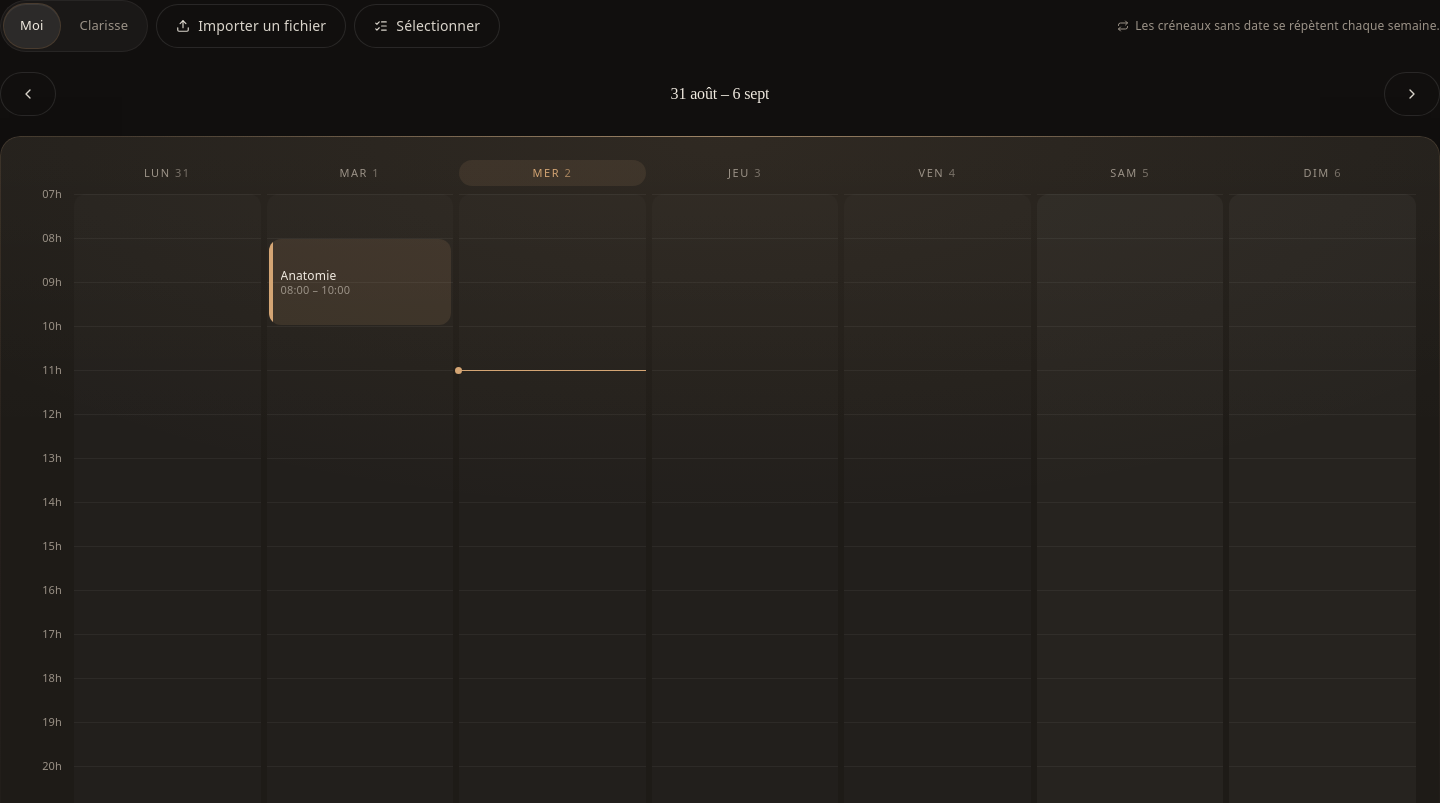
Emploi du temps — une semaine vide n’est pas un emploi du temps vide › dit « rien cette semaine » plutôt que « ta semaine est encore vide »
The image size is (1440, 803).
Click the button named "Semaine suivante" at x=1412, y=94, box [1384,72,1439,116]
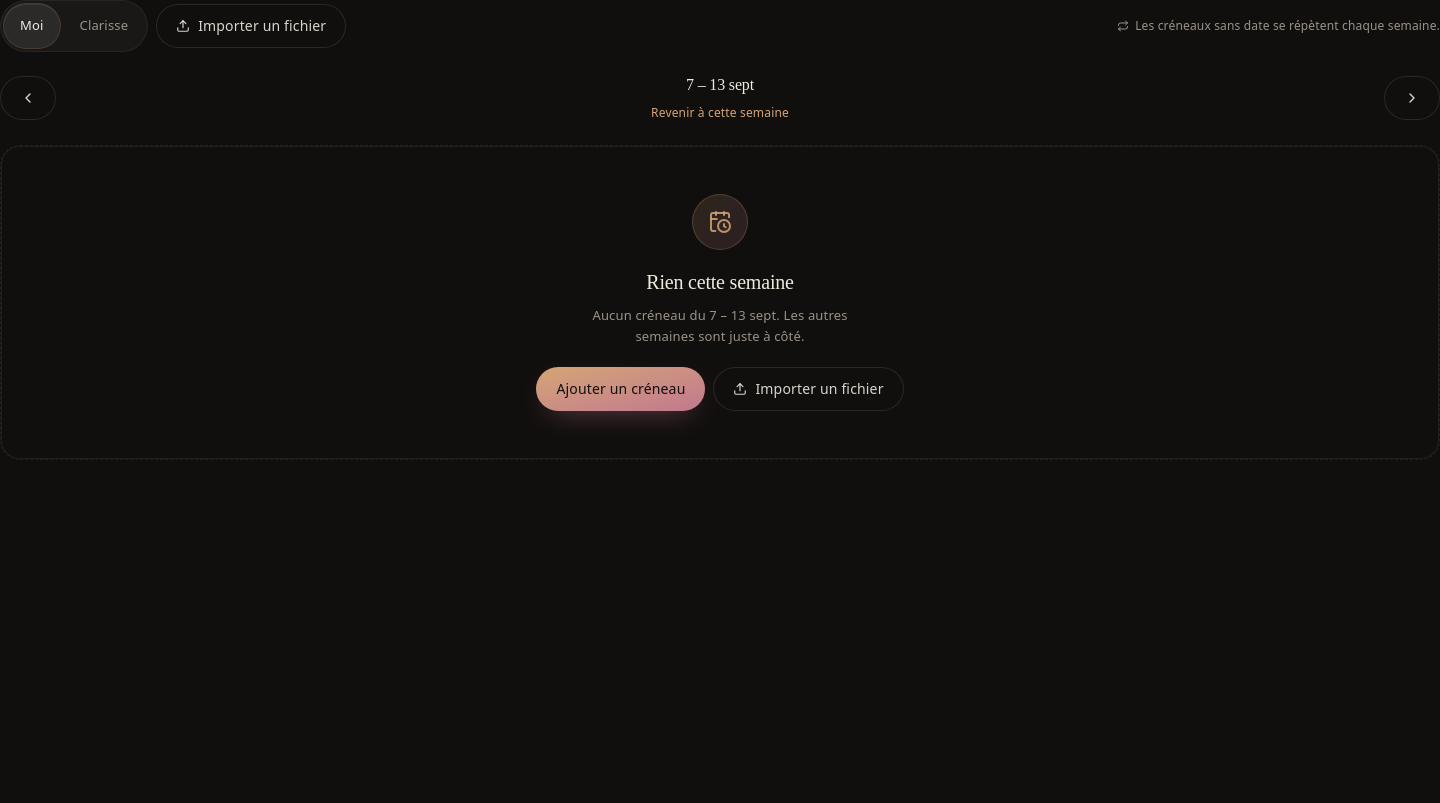
expect the text "Rien cette semaine" is shown: met, box [646,271,794,293]
